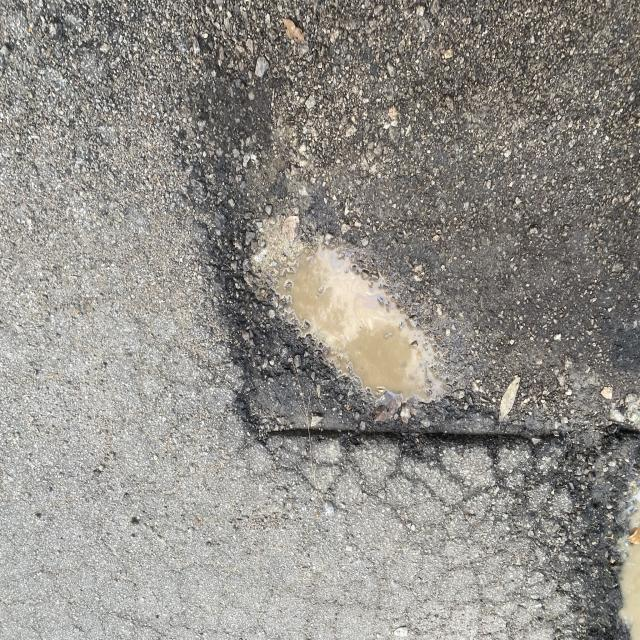pothole: (186, 151, 640, 550)
